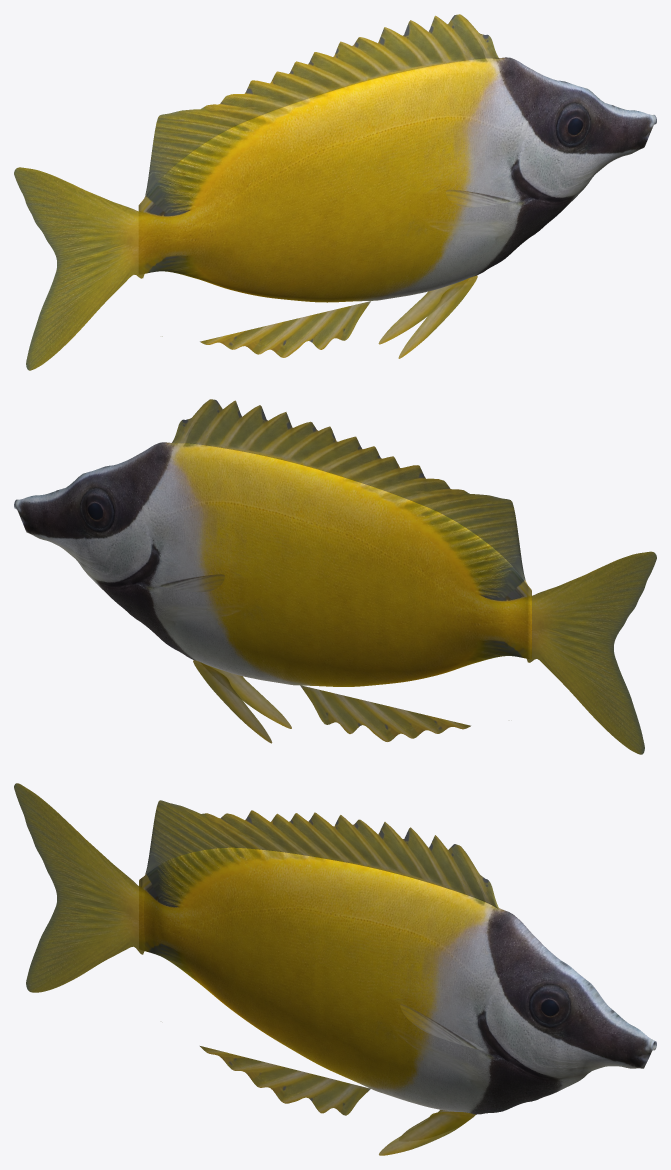
File: vulpinus.glb
The picture shows the model from 3 angles, top to bottom: view 1: azimuth 30°, elevation 25°; view 2: azimuth 150°, elevation 25°; view 3: azimuth 330°, elevation 25°; orthographic projection.
Visible parts, largest first — view 1: vulpinus__body, vulpinus__fin_1, vulpinus__fin_0, vulpinus__fin_2, vulpinus__gill_1, vulpinus__pelvic_1, vulpinus__pelvic_-1, vulpinus__pectoral_1, vulpinus__eye_1; view 2: vulpinus__body, vulpinus__fin_1, vulpinus__fin_0, vulpinus__fin_2, vulpinus__gill_-1, vulpinus__pelvic_-1, vulpinus__pelvic_1, vulpinus__pectoral_-1, vulpinus__eye_-1; view 3: vulpinus__body, vulpinus__fin_1, vulpinus__fin_0, vulpinus__fin_2, vulpinus__gill_1, vulpinus__pelvic_1, vulpinus__pectoral_1, vulpinus__eye_1.
Boxes of the visible parts, x1,y1,x2,y2 form: vulpinus__body: (138, 57, 656, 302); vulpinus__fin_1: (143, 14, 499, 200); vulpinus__fin_0: (14, 167, 145, 370); vulpinus__fin_2: (162, 301, 370, 357); vulpinus__gill_1: (516, 134, 565, 210); vulpinus__pelvic_1: (398, 275, 477, 358); vulpinus__pelvic_-1: (378, 280, 464, 344); vulpinus__pectoral_1: (446, 189, 516, 207); vulpinus__eye_1: (562, 106, 585, 136); vulpinus__body: (14, 442, 531, 686); vulpinus__fin_1: (172, 399, 527, 584); vulpinus__fin_0: (527, 551, 656, 754); vulpinus__fin_2: (300, 685, 470, 741); vulpinus__gill_-1: (105, 519, 154, 594); vulpinus__pelvic_-1: (193, 660, 272, 743); vulpinus__pelvic_1: (206, 664, 291, 728); vulpinus__pectoral_-1: (154, 574, 224, 592); vulpinus__eye_-1: (85, 490, 108, 521); vulpinus__body: (139, 847, 656, 1114); vulpinus__fin_1: (144, 800, 499, 909); vulpinus__fin_0: (14, 783, 145, 992); vulpinus__fin_2: (200, 1046, 370, 1115); vulpinus__gill_1: (485, 996, 535, 1068); vulpinus__pelvic_1: (379, 1111, 472, 1155); vulpinus__pectoral_1: (400, 1003, 484, 1050); vulpinus__eye_1: (536, 987, 564, 1017).
Size of the model in its own units: 1.25 by 0.6076 by 0.1543.
Materials: 5 (5 with a texture image).
